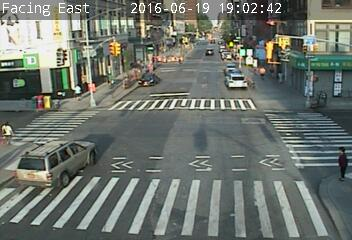neg: (139, 71, 168, 110), (201, 90, 223, 119), (275, 88, 296, 117), (55, 125, 73, 149), (121, 75, 138, 97)
pos: (327, 142, 351, 181), (255, 63, 270, 83), (71, 81, 83, 98)
